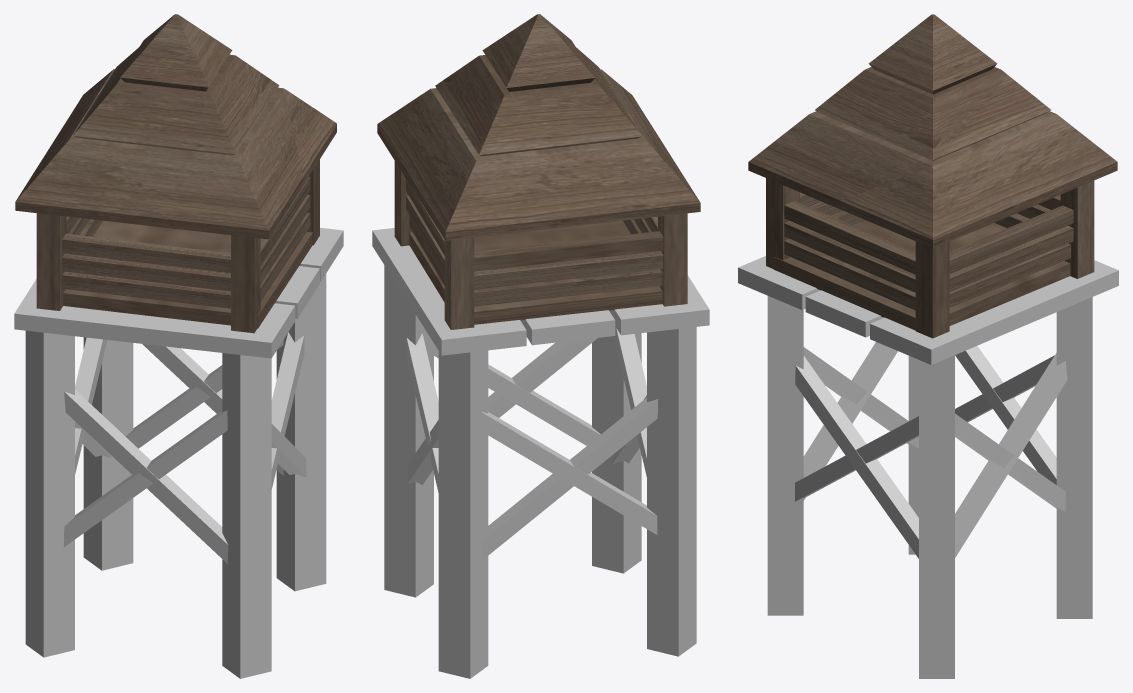
Rendered from att_tower_uv.fbx.
3 views of the same model, side by side, from view 1: azimuth 30°, elevation 25°; view 2: azimuth 150°, elevation 25°; view 3: azimuth 270°, elevation 25° (orthographic).
Visible parts, largest first — view 1: polySurface14, polySurface3, polySurface32, polySurface25, polySurface18, polySurface21, polySurface22, polySurface4, polySurface20, polySurface2, polySurface30, polySurface27 (+13 smaller); view 2: polySurface14, polySurface21, polySurface32, polySurface25, polySurface3, polySurface22, polySurface1, polySurface23, polySurface26, polySurface10, polySurface6, polySurface7 (+12 smaller); view 3: polySurface14, polySurface25, polySurface3, polySurface21, polySurface1, polySurface22, polySurface33, polySurface11, polySurface31, polySurface17, polySurface23, polySurface16 (+14 smaller).
Boxes of the visible parts, box(x1,y1,x2,y2) form: polySurface14: box(15, 14, 336, 239); polySurface3: box(222, 353, 271, 678); polySurface32: box(25, 330, 74, 657); polySurface25: box(276, 274, 326, 591); polySurface18: box(14, 279, 295, 358); polySurface21: box(83, 337, 133, 570); polySurface22: box(63, 220, 312, 328); polySurface4: box(64, 389, 228, 563); polySurface20: box(63, 410, 227, 546); polySurface2: box(62, 233, 230, 273); polySurface30: box(62, 253, 230, 291); polySurface27: box(62, 271, 230, 308); polySurface14: box(377, 14, 700, 240); polySurface21: box(438, 350, 488, 678); polySurface32: box(647, 327, 696, 656); polySurface25: box(384, 265, 433, 597); polySurface3: box(592, 333, 641, 573); polySurface22: box(409, 220, 662, 324); polySurface1: box(372, 228, 526, 355); polySurface23: box(481, 397, 658, 560); polySurface26: box(480, 411, 657, 534); polySurface10: box(474, 231, 662, 271); polySurface6: box(474, 251, 663, 289); polySurface7: box(474, 269, 661, 306); polySurface14: box(748, 14, 1117, 248); polySurface25: box(919, 355, 954, 678); polySurface3: box(767, 296, 803, 615); polySurface21: box(1056, 297, 1092, 618); polySurface1: box(870, 260, 1118, 364); polySurface22: box(773, 220, 1070, 330); polySurface33: box(795, 356, 918, 558); polySurface11: box(955, 353, 1067, 557); polySurface31: box(915, 241, 949, 338); polySurface17: box(784, 201, 915, 274); polySurface23: box(955, 346, 1056, 484); polySurface16: box(949, 205, 1073, 273).
Bounding box in the file's own units: 15.89 × 27.35 × 15.87.
